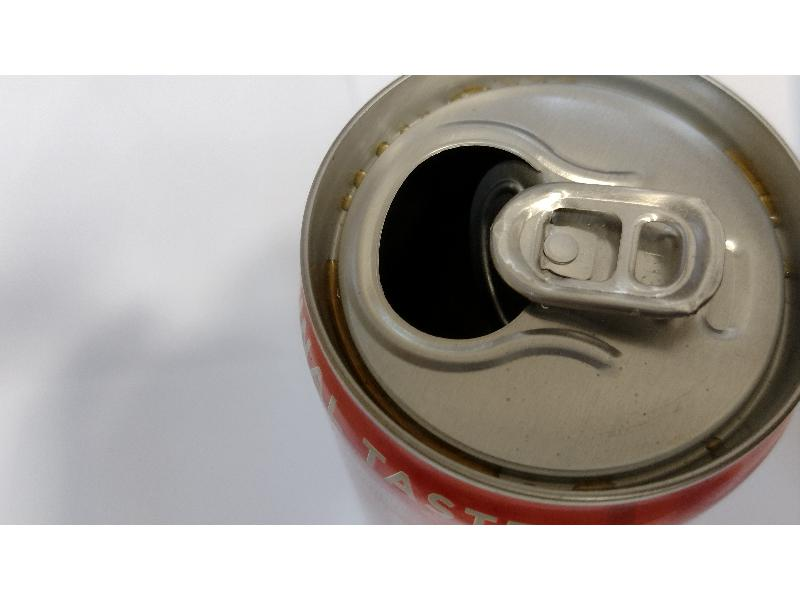can: (295, 73, 799, 523)
